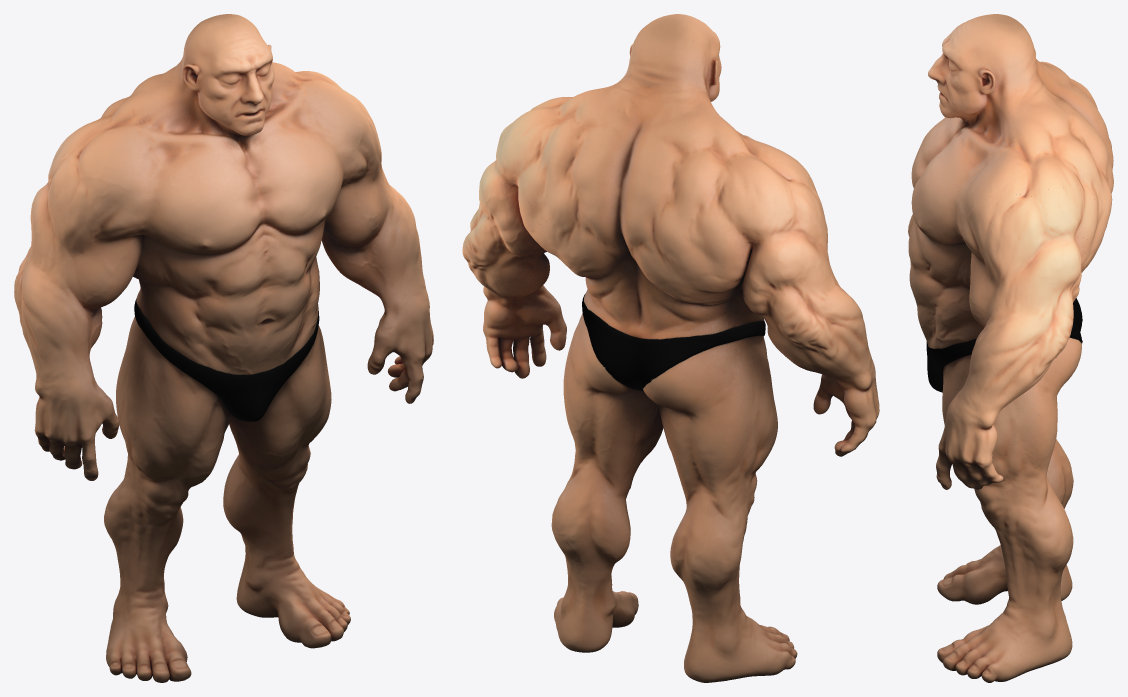
3 renders of one model, left to right at view 1: azimuth 30°, elevation 25°; view 2: azimuth 150°, elevation 25°; view 3: azimuth 270°, elevation 25°, orthographic. The views are drawn at different scales.
Visible parts, largest first — view 1: Object_2, Object_3, Object_4; view 2: Object_2, Object_3, Object_4; view 3: Object_3, Object_2, Object_4.
Part boxes in pixels (left/top/right/bottom): Object_2: left=14, top=14, right=431, bottom=682; Object_3: left=43, top=14, right=433, bottom=680; Object_4: left=134, top=299, right=319, bottom=421; Object_2: left=509, top=17, right=879, bottom=682; Object_3: left=462, top=14, right=838, bottom=681; Object_4: left=582, top=294, right=765, bottom=391; Object_3: left=909, top=14, right=1108, bottom=681; Object_2: left=908, top=14, right=1113, bottom=682; Object_4: left=926, top=298, right=1082, bottom=392.
Bounding box in the file's own units: 139 × 213 × 64.7.
2 materials, 1 textured.
